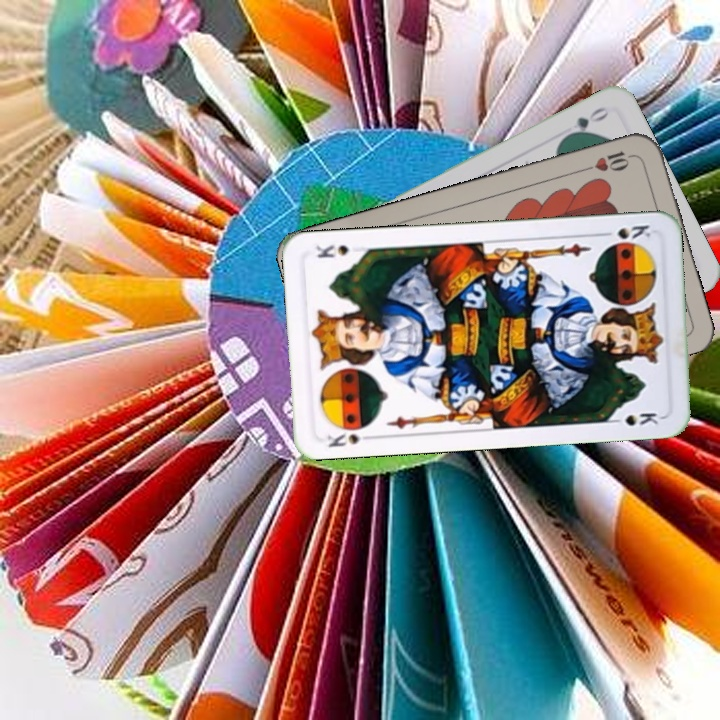GO: (560, 102, 612, 141)
H10: (579, 146, 637, 174)
SK: (596, 221, 653, 242), (323, 428, 377, 450)
